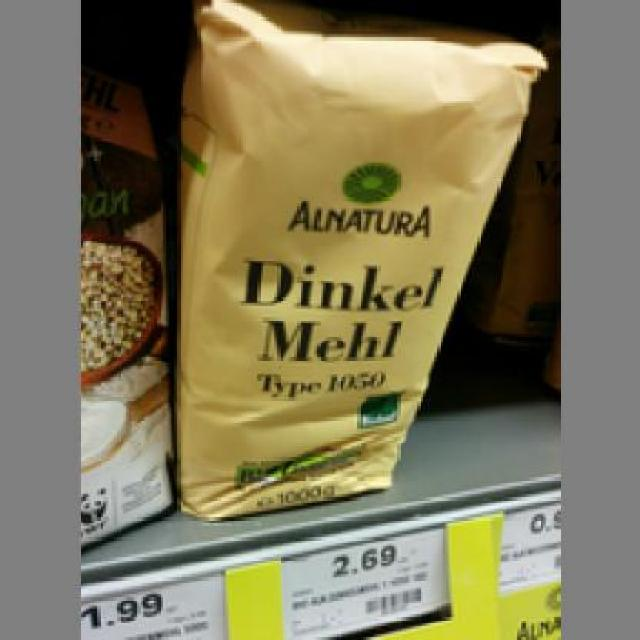Flour: (172, 3, 538, 520)
